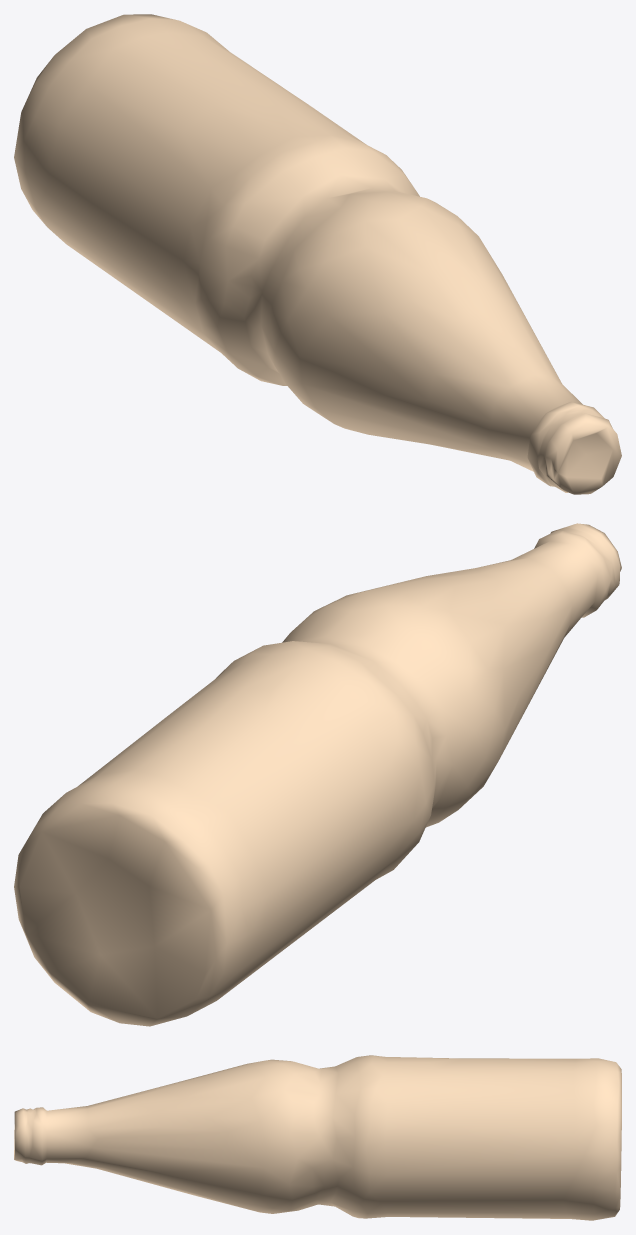
Rendered from bottle9_2.dae.
3 views of the same model, one above another, from view 1: azimuth 30°, elevation 25°; view 2: azimuth 150°, elevation 25°; view 3: azimuth 270°, elevation 25° (orthographic). The views are drawn at different scales.
Visible parts, largest first — view 1: Sprudelflasche_800_tex_019; view 2: Sprudelflasche_800_tex_019; view 3: Sprudelflasche_800_tex_019.
Boxes of the visible parts, x1,y1,x2,y2 form: Sprudelflasche_800_tex_019: (14,14,621,494); Sprudelflasche_800_tex_019: (14,523,621,1026); Sprudelflasche_800_tex_019: (14,1055,621,1220).
Size of the model in its own units: 0.0448 by 0.1636 by 0.045.
